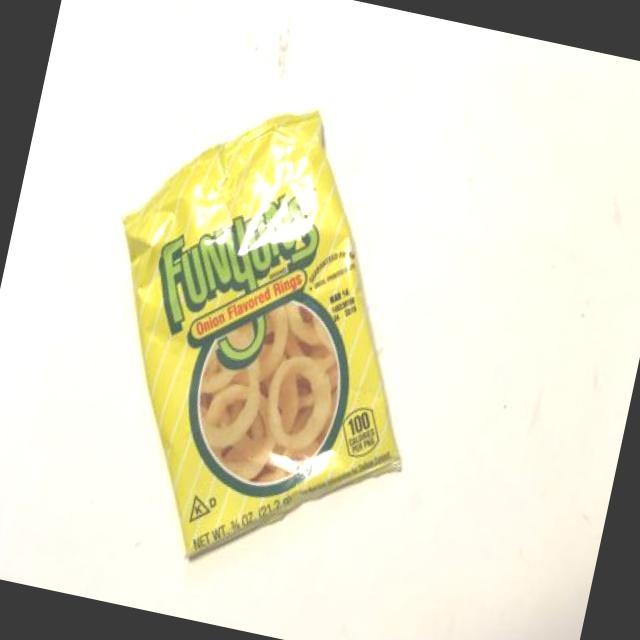Trash: (56, 65, 474, 598)
